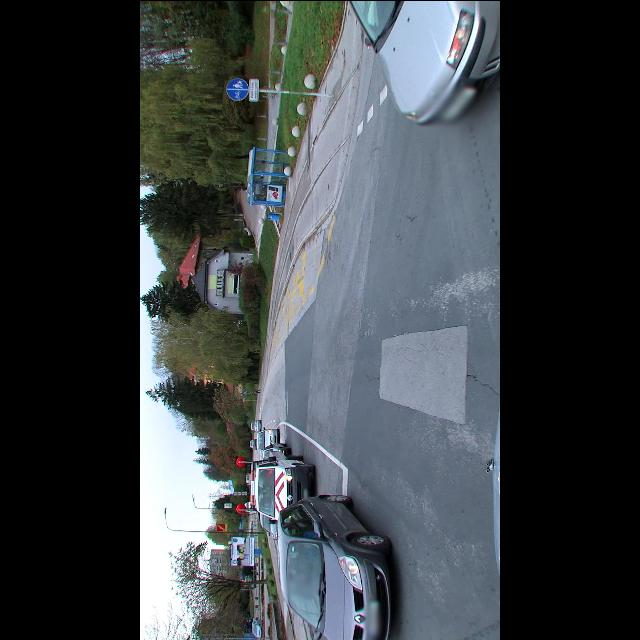Rectangle: (249, 78, 259, 100)
Round: (226, 77, 248, 99)
